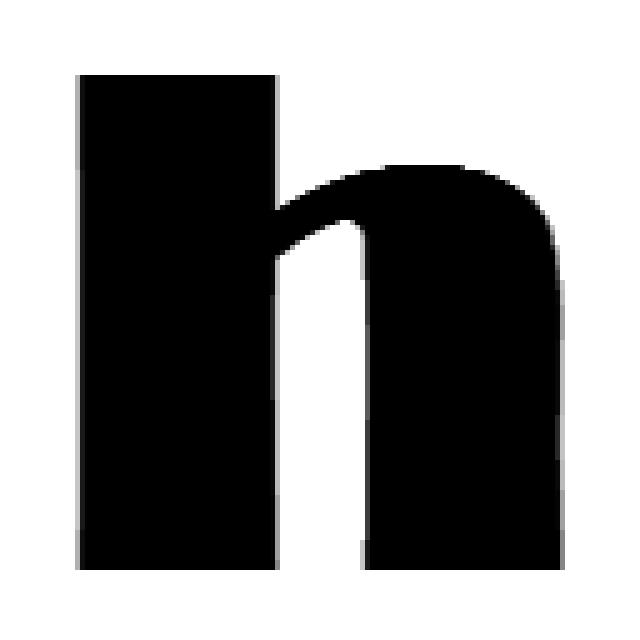H: (75, 75, 565, 575)
